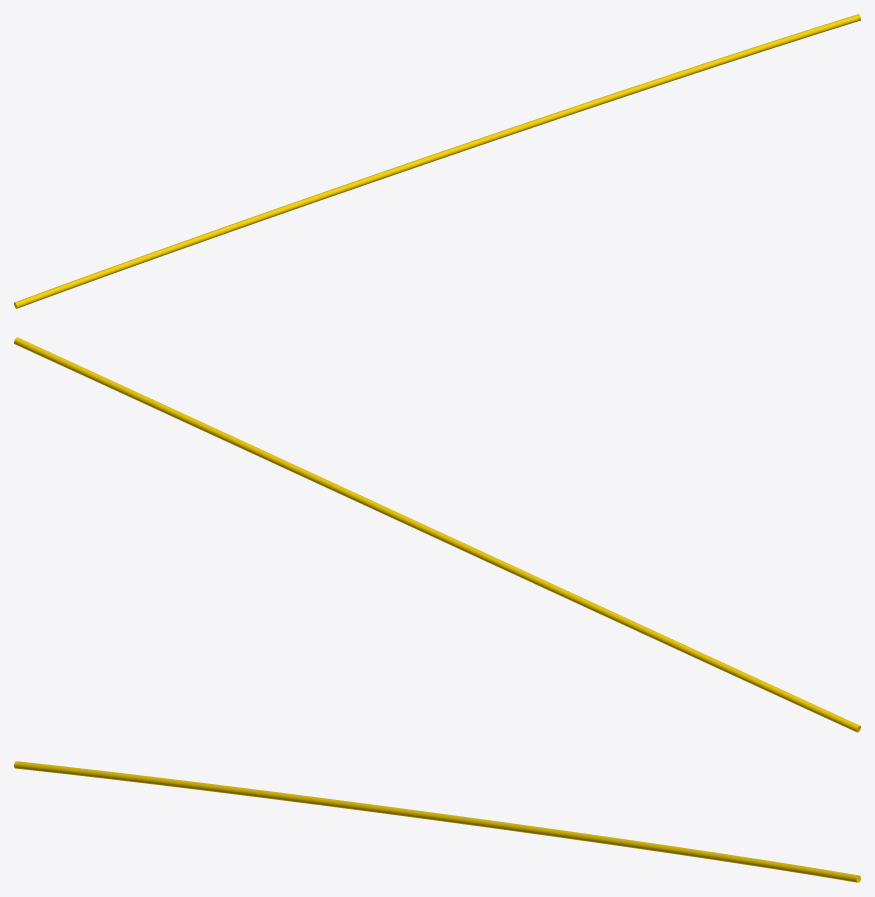
Rendered from Event_421364160_track_23.fbx.
3 views of the same model, one above another, from view 1: azimuth 30°, elevation 25°; view 2: azimuth 150°, elevation 25°; view 3: azimuth 330°, elevation 25° (orthographic). The views are drawn at different scales.
Parts seen in each view (by area): view 1: Model; view 2: Model; view 3: Model.
Boxes of the visible parts, box(x1,y1,x2,y2) form: Model: box(14, 14, 860, 308); Model: box(14, 337, 860, 732); Model: box(14, 761, 860, 882).
Size of the model in its own units: 5.47 by 0.8436 by 0.5377.
